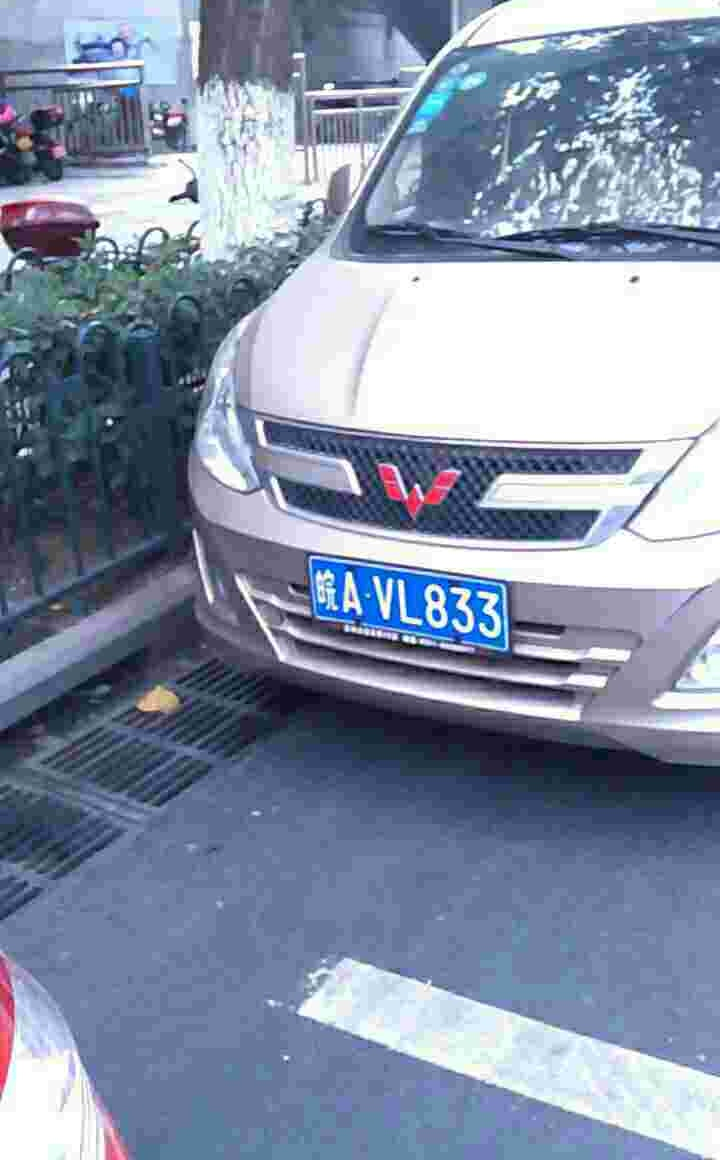plate: (306, 549, 513, 654)
